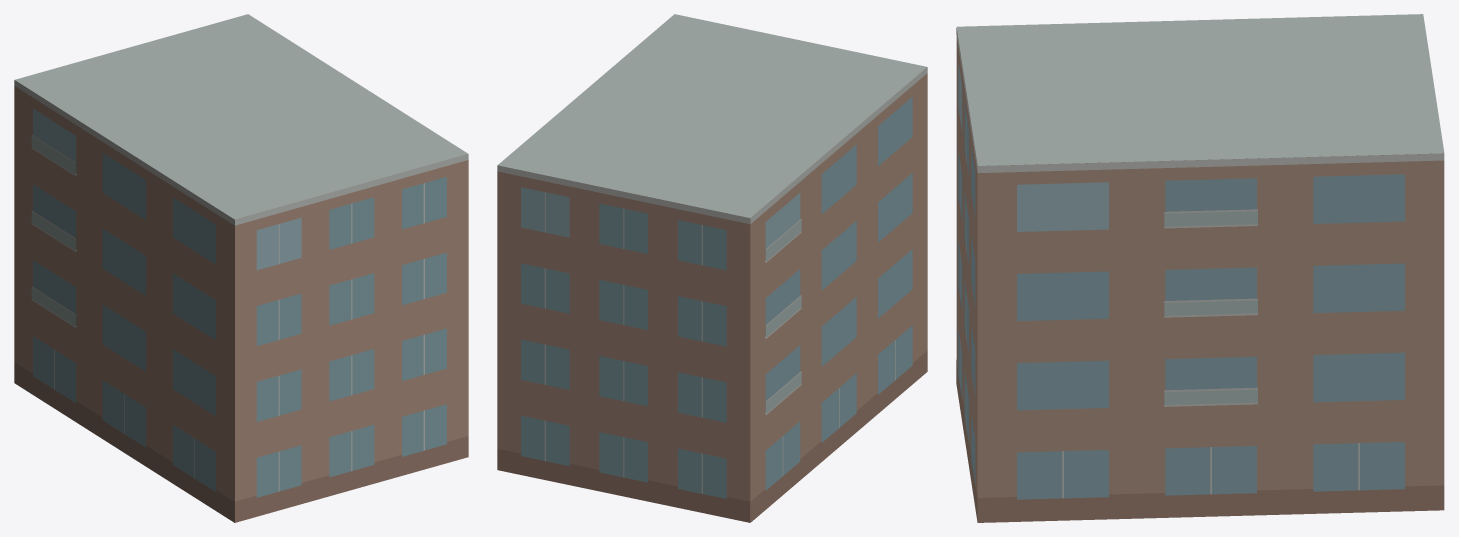
File: survey-upis-32782029.glb
3 renders of one model, left to right at view 1: azimuth 30°, elevation 25°; view 2: azimuth 150°, elevation 25°; view 3: azimuth 270°, elevation 25°, orthographic. The views are drawn at different scales.
Parts seen in each view (by area): view 1: survey-upis-32782029.tmp; view 2: survey-upis-32782029.tmp; view 3: survey-upis-32782029.tmp.
Part boxes in pixels (<box>): survey-upis-32782029.tmp: <box>14,14,468,522</box>; survey-upis-32782029.tmp: <box>497,14,927,522</box>; survey-upis-32782029.tmp: <box>956,14,1444,522</box>.
Bounding box in the file's own units: 11.16 × 12.2 × 15.13.
